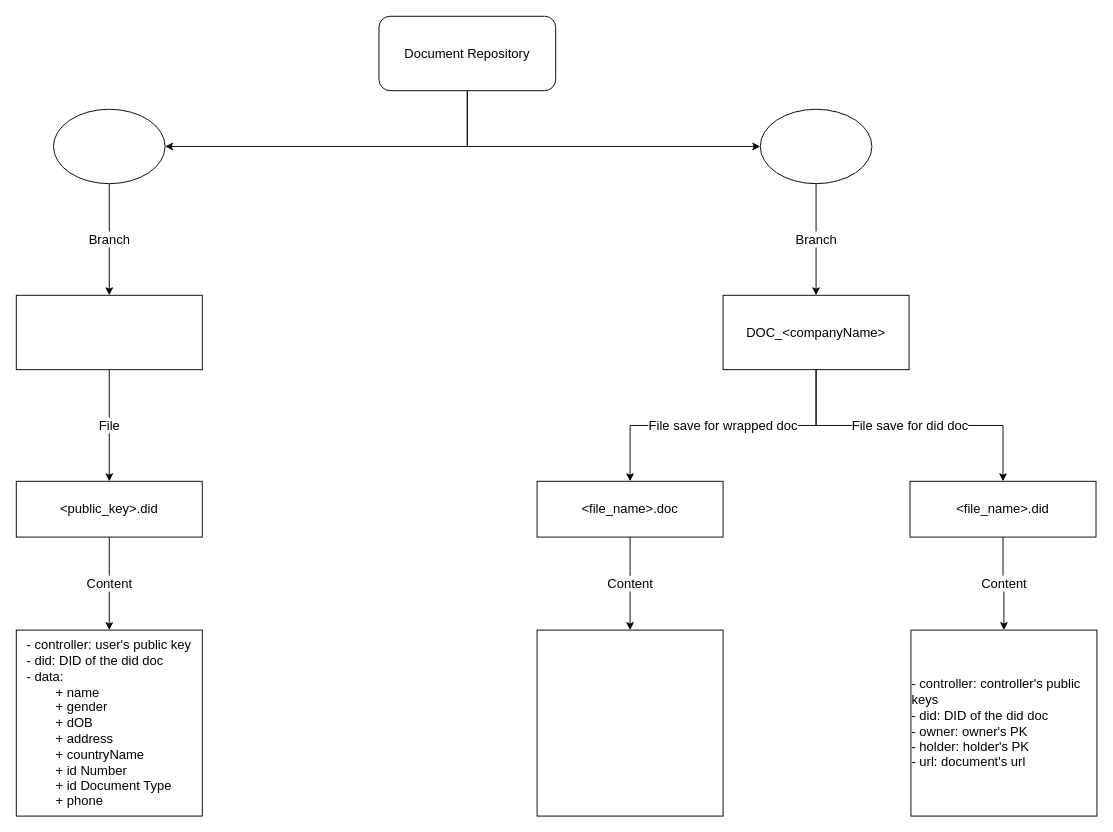
The diagram is 1113 pixels wide and 832 high, and some of its shapes have lost their labels. Here are the shapes that lost their labels. From the top down, the box of each, then its label:
(53, 108, 165, 184): User's DID
(759, 108, 872, 184): Document
(15, 294, 202, 370): DID_<companyName>
(536, 629, 723, 816): Wrapped document's content
